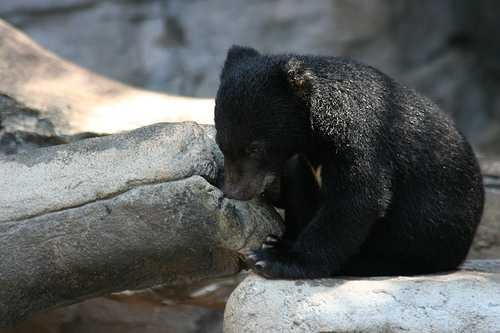bear: (208, 67, 336, 195)
